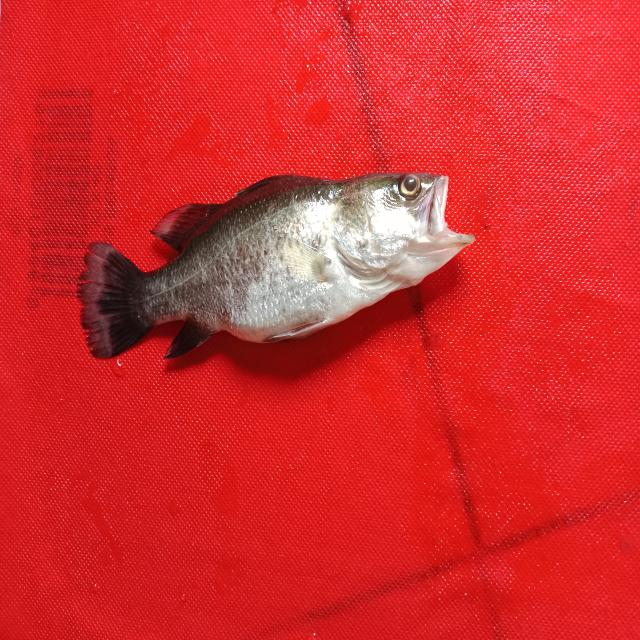ikan: (64, 144, 494, 386)
